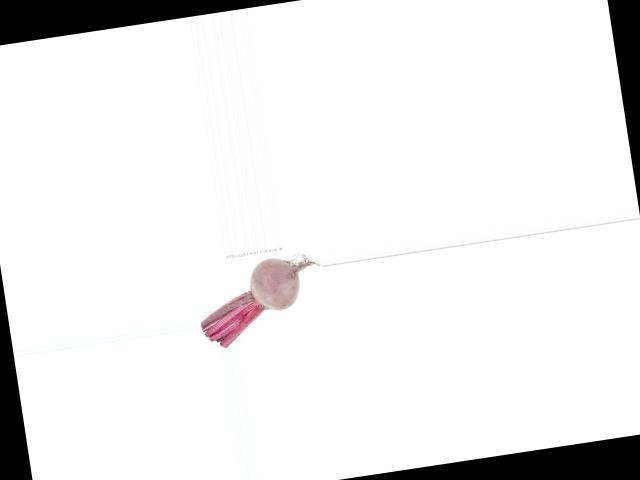beet: (192, 251, 329, 350)
